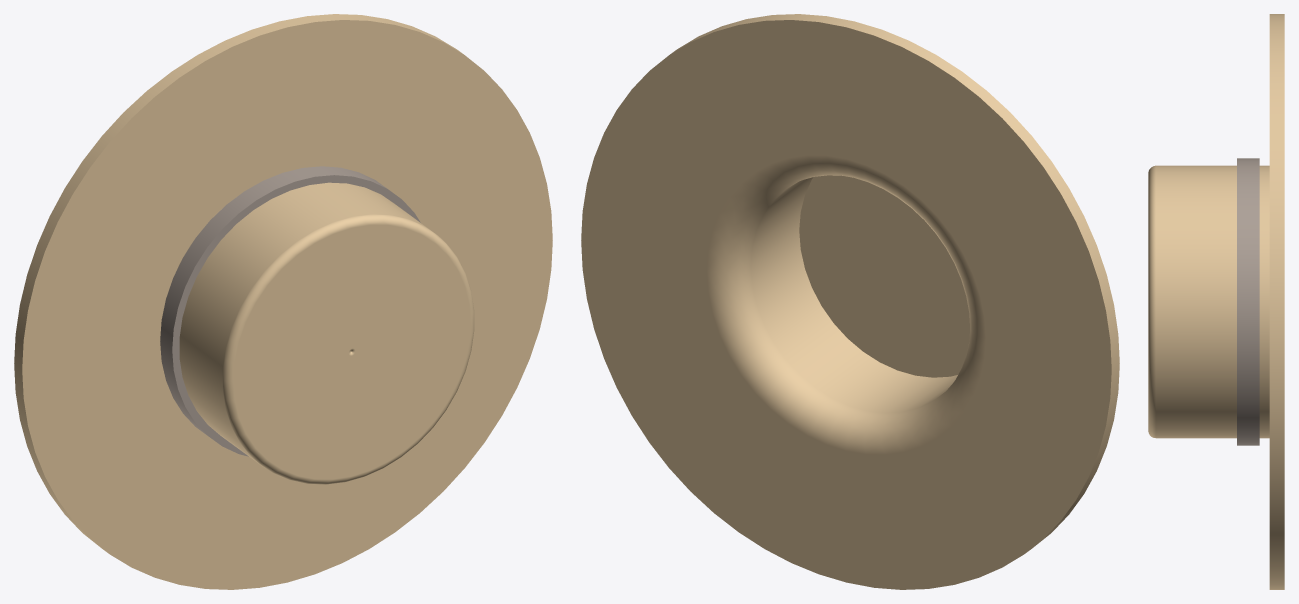
The model's file is Boater.glb.
3 renders of one model, left to right at view 1: azimuth 30°, elevation 25°; view 2: azimuth 150°, elevation 25°; view 3: azimuth 270°, elevation 25°, orthographic. The views are drawn at different scales.
Size of the model in its own units: 19 by 19 by 4.5.
